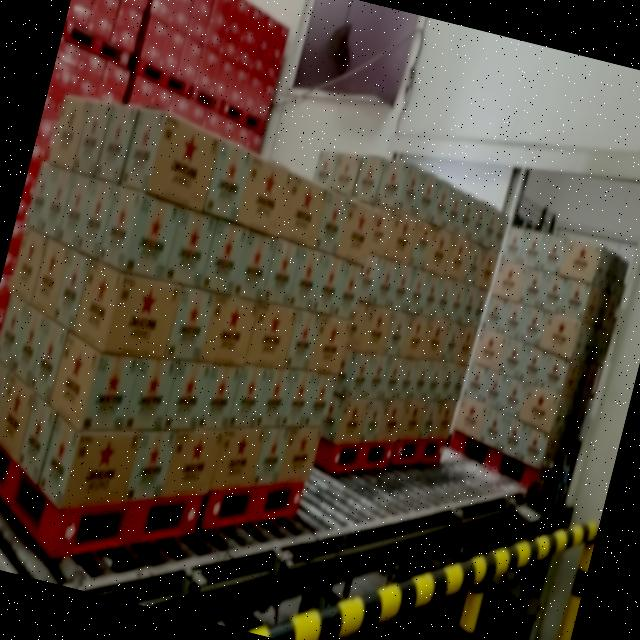pallet: (0, 68, 299, 597), (238, 136, 522, 518), (194, 147, 392, 560), (442, 201, 638, 511)
